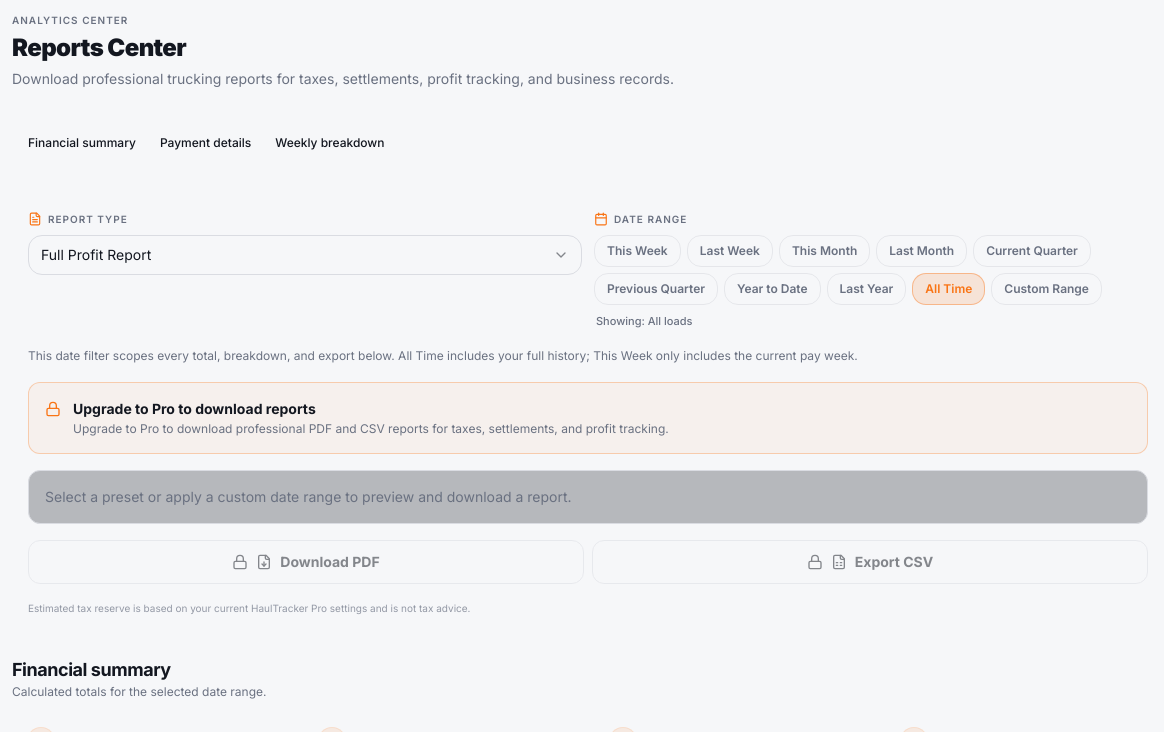
Test: ReportsView active pill state › only one preset pill is active and "Showing:" label updates after clicking Last Week
Expected: the button "All Time" is shown, [912, 273, 985, 305]
Expected: the text "Showing: All loads" is shown, [596, 314, 692, 328]
Note: Click Last Week
Click the button "Last Week".
click(730, 251)  # box [687, 235, 773, 267]
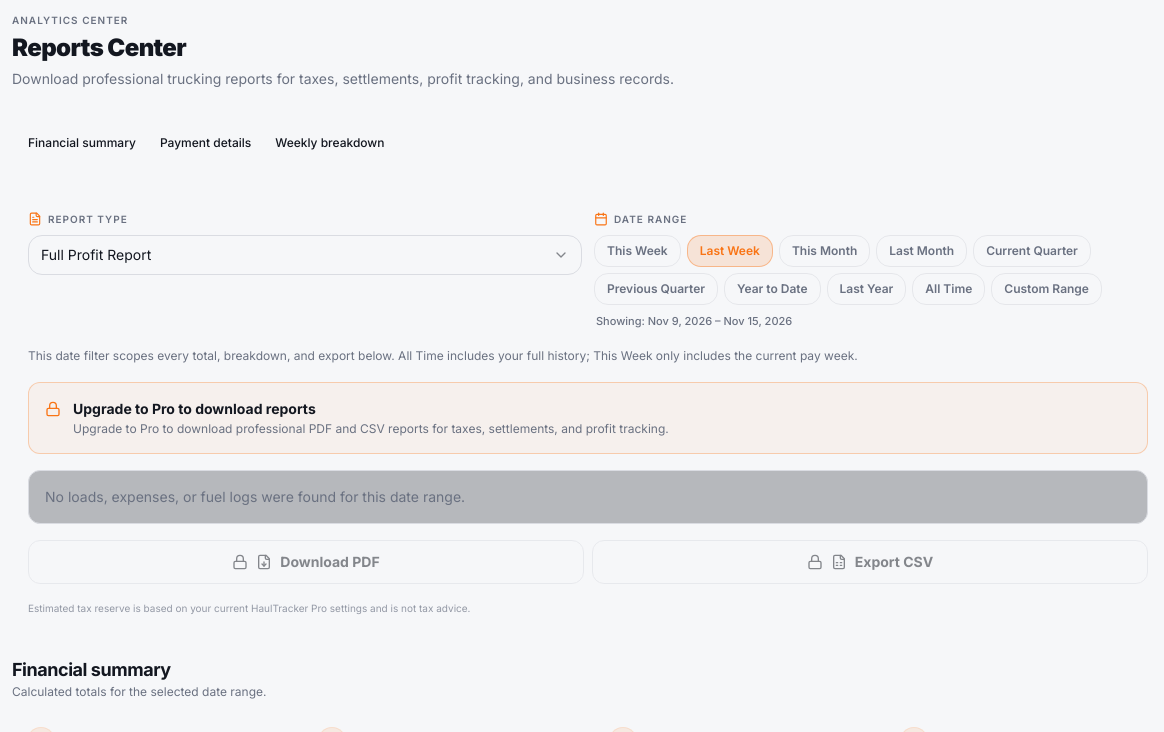
Expected: the text "Showing: All loads" is gone
Expected: the text "Showing: Nov 9, 2026 – Nov 15, 2026" is shown, [596, 314, 792, 328]
